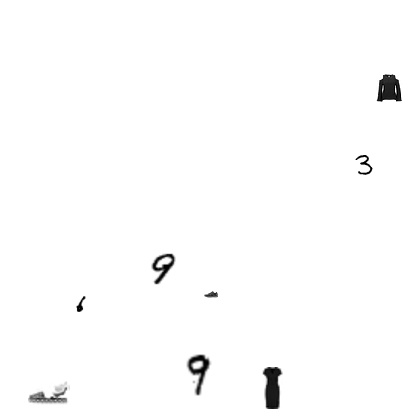3: (351, 150, 379, 178)
6: (69, 294, 91, 316)
9: (171, 341, 227, 397), (141, 245, 183, 287)
Dress: (251, 367, 293, 409)
Sandal: (28, 371, 70, 413)
Shirt: (375, 74, 403, 102)
Sneaker: (204, 287, 218, 301)
